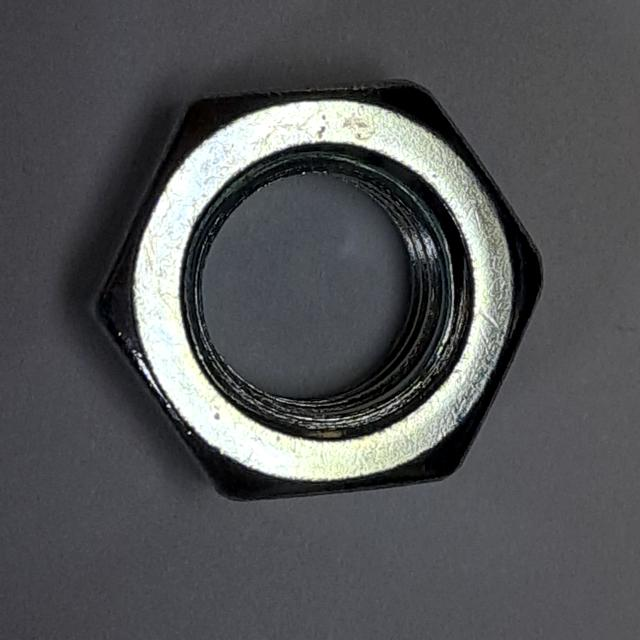Excellent: (64, 62, 555, 517)
